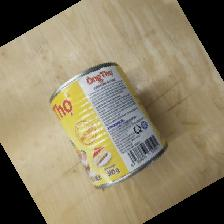Ong_tho: (49, 61, 168, 189)
